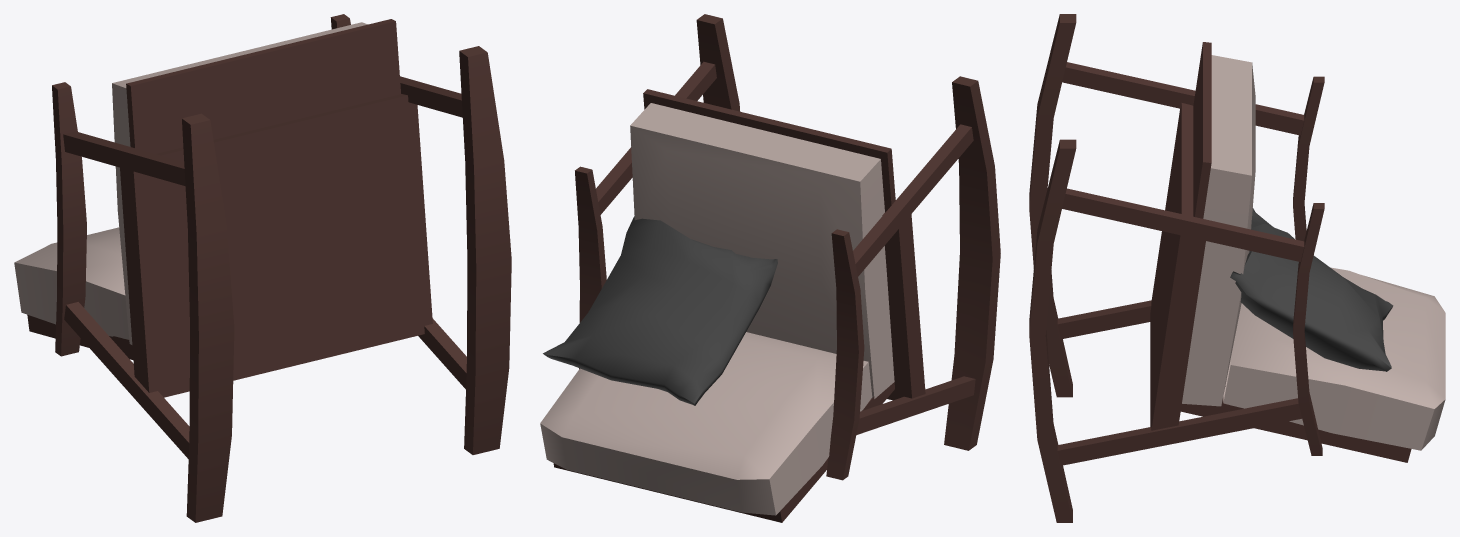
The model's file is lounge-chair.glb.
3 renders of one model, left to right at view 1: azimuth 30°, elevation 25°; view 2: azimuth 150°, elevation 25°; view 3: azimuth 270°, elevation 25°, orthographic. The views are drawn at different scales.
Parts seen in each view (by area): view 1: lounge_chair_010; view 2: lounge_chair_010; view 3: lounge_chair_010.
Part boxes in pixels (x1=…): lounge_chair_010: x1=14, y1=14, x2=511, y2=522; lounge_chair_010: x1=540, y1=14, x2=1000, y2=522; lounge_chair_010: x1=1029, y1=14, x2=1445, y2=522.
Size of the model in its own units: 0.6689 by 0.8057 by 0.8225.
Materials: 1 (1 with a texture image).
